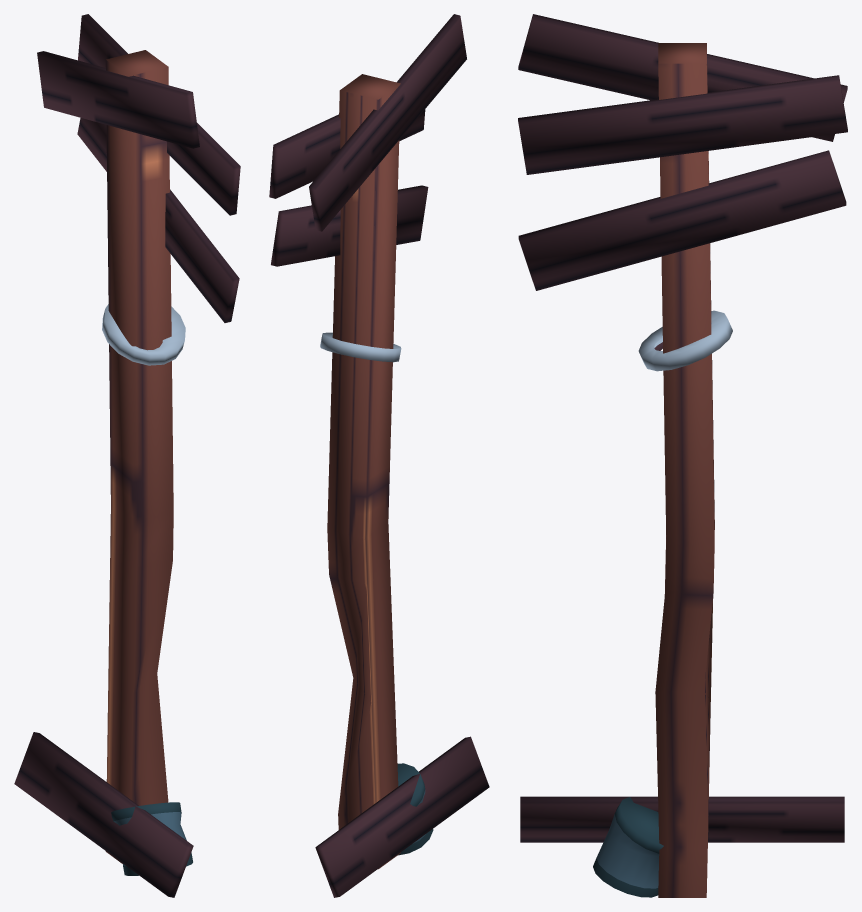
Rendered from PosteDeEletricidadeQuebrado.fbx.
3 views of the same model, side by side, from view 1: azimuth 30°, elevation 25°; view 2: azimuth 150°, elevation 25°; view 3: azimuth 270°, elevation 25° (orthographic). The views are drawn at different scales.
Visible parts, largest first — view 1: PosteDeEletricidade; view 2: PosteDeEletricidade; view 3: PosteDeEletricidade.
Part boxes in pixels (x1=…): PosteDeEletricidade: x1=14, y1=14, x2=240, y2=897; PosteDeEletricidade: x1=269, y1=14, x2=489, y2=897; PosteDeEletricidade: x1=518, y1=14, x2=847, y2=897.
Size of the model in its own units: 71.8 by 218 by 632.
